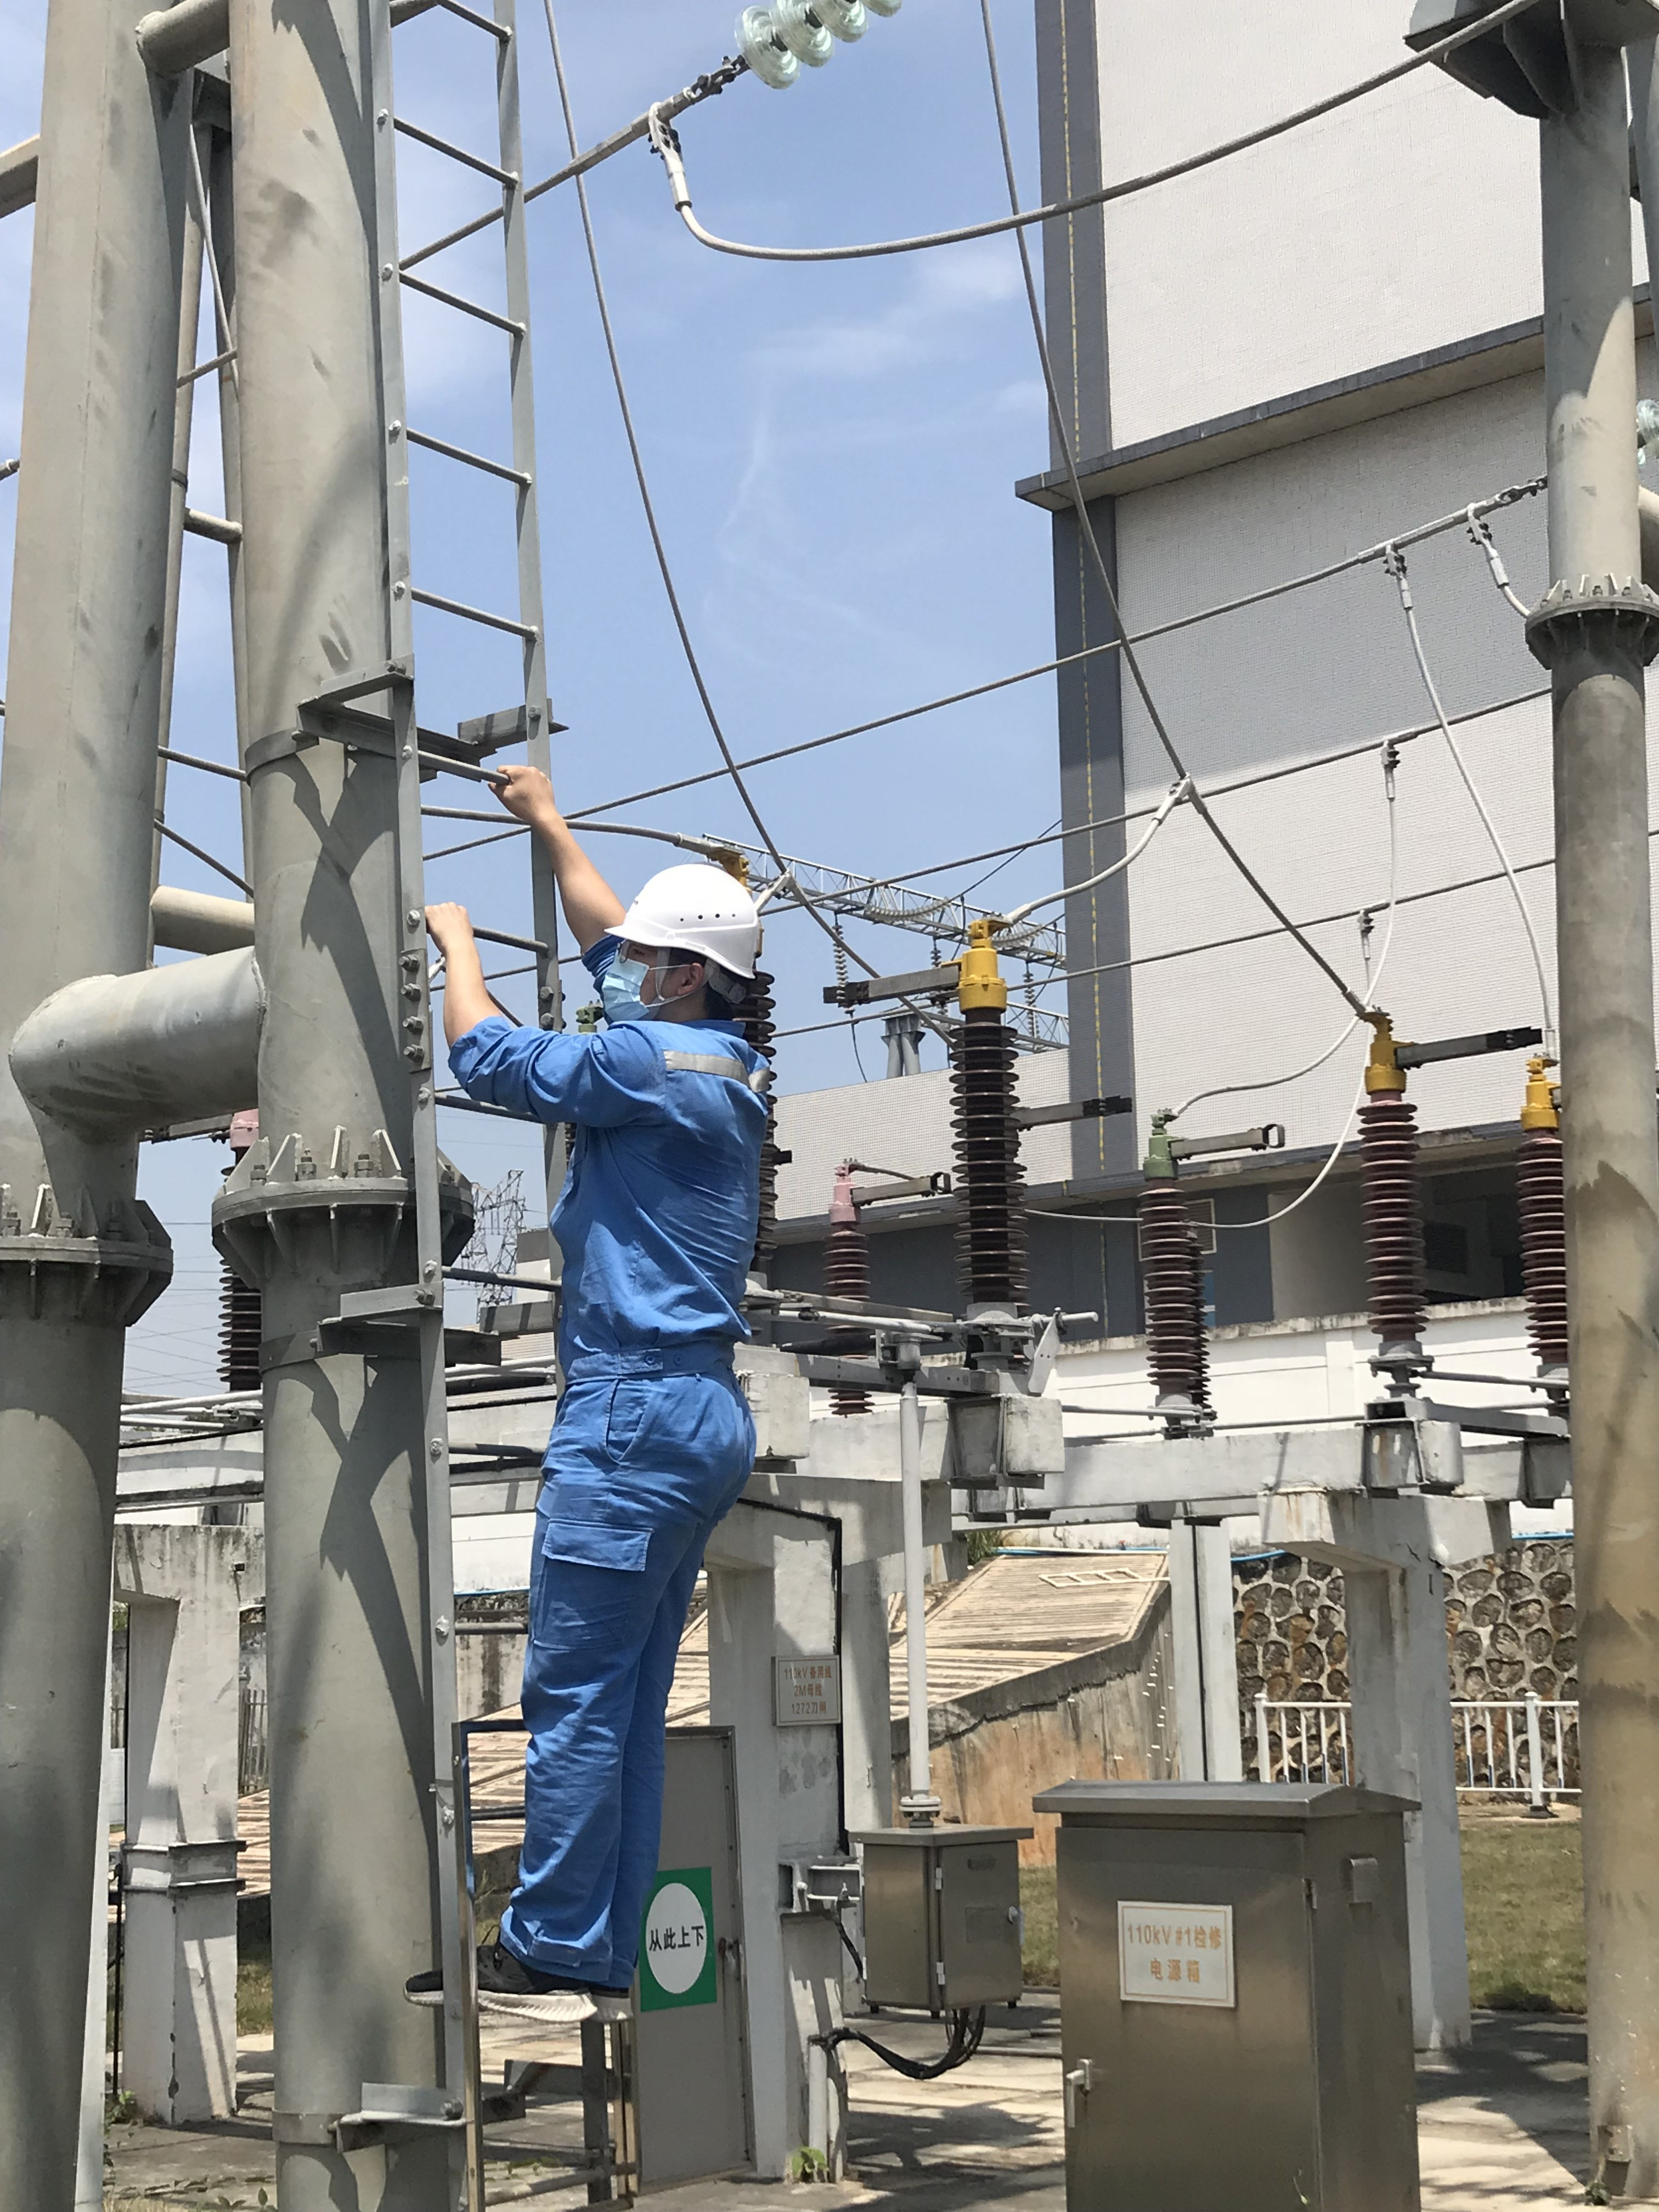downsuit: (497, 1400, 774, 1987)
upsuit: (453, 1003, 774, 1366)
wrongtop: (444, 934, 518, 1085)
